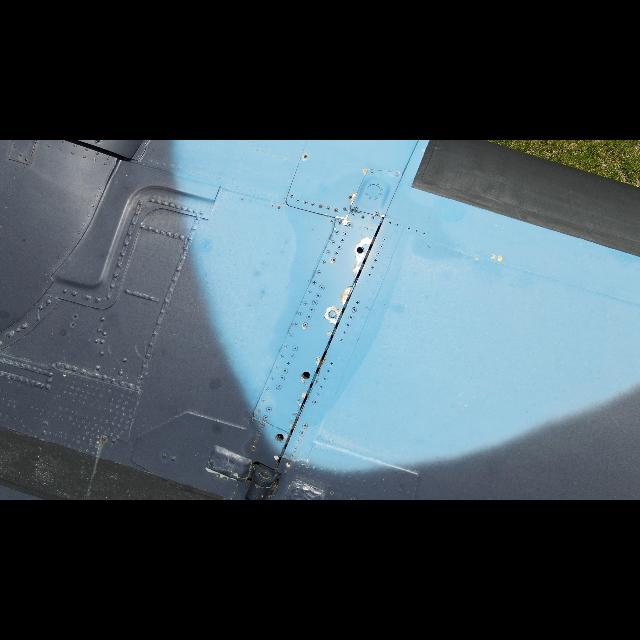Missing Fastener: (273, 430, 287, 446), (297, 370, 313, 382)
